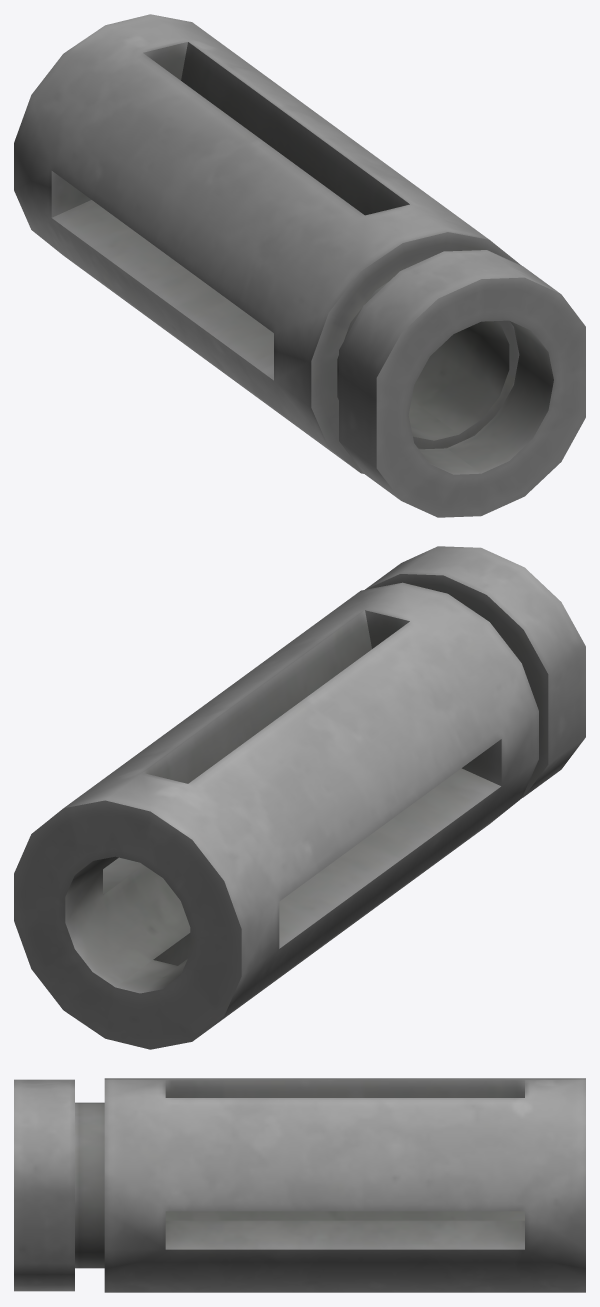
File: IG_Acc_Muzzle_SMG_REC_1.fbx
3 views of the same model, one above another, from view 1: azimuth 30°, elevation 25°; view 2: azimuth 150°, elevation 25°; view 3: azimuth 270°, elevation 25° (orthographic). The views are drawn at different scales.
Visible parts, largest first — view 1: Muzzle_SMG_REC_1; view 2: Muzzle_SMG_REC_1; view 3: Muzzle_SMG_REC_1.
Boxes of the visible parts, x1,y1,x2,y2 form: Muzzle_SMG_REC_1: (14, 14, 585, 517); Muzzle_SMG_REC_1: (14, 546, 585, 1049); Muzzle_SMG_REC_1: (14, 1078, 585, 1292).
Size of the model in its own units: 0.0768 by 0.0768 by 0.2065.
